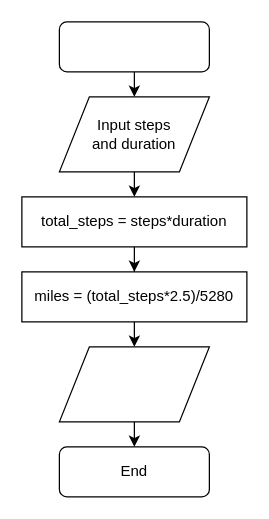
Some shapes in this 269 by 519 pixel diagram are drawn without their labels. Each missing label, with the centre of its shape:
Display miles: pixel 133 384
Start: pixel 133 46
